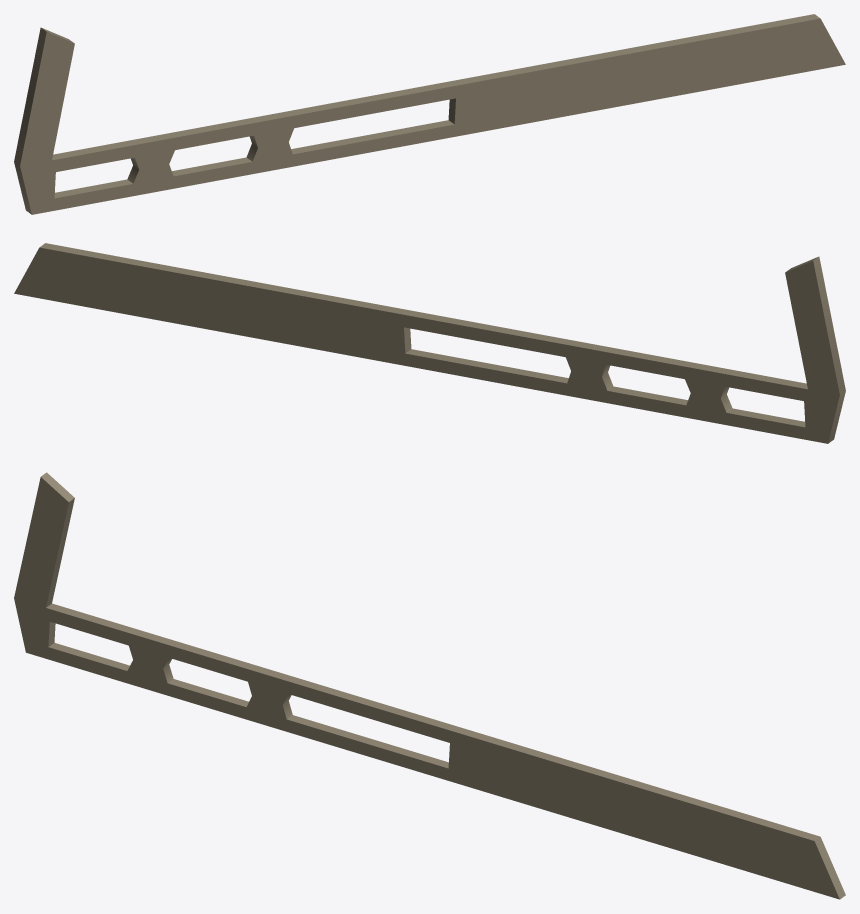
File: savHubHolder.fbx
3 views of the same model, one above another, from view 1: azimuth 30°, elevation 25°; view 2: azimuth 150°, elevation 25°; view 3: azimuth 330°, elevation 25° (orthographic).
Parts seen in each view (by area): view 1: savHubHolder_LOD0; view 2: savHubHolder_LOD0; view 3: savHubHolder_LOD0.
Boxes of the visible parts, left/top/right/bottom form: savHubHolder_LOD0: left=14, top=14, right=845, bottom=214; savHubHolder_LOD0: left=14, top=243, right=845, bottom=443; savHubHolder_LOD0: left=14, top=472, right=845, bottom=899.
Size of what is drawn, in the model's own units: 118 by 31.05 by 1.5.
